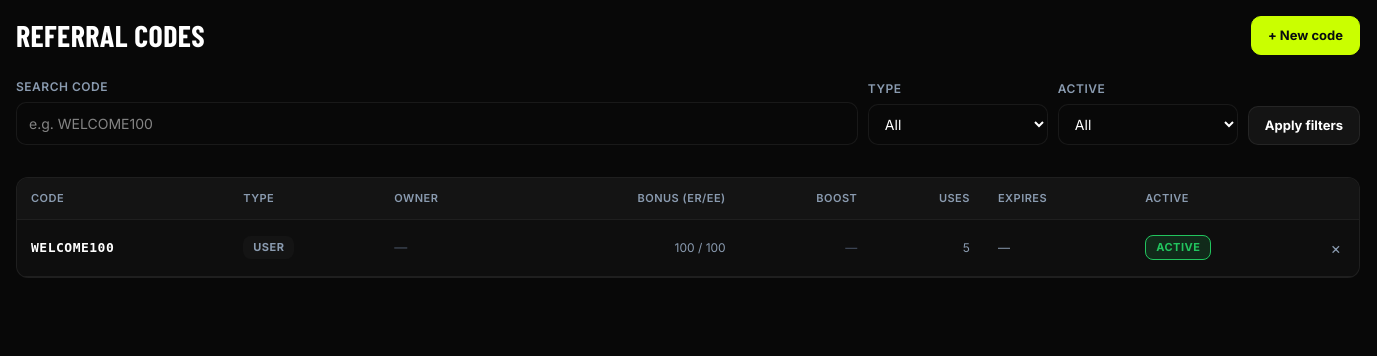
ReferralCodesPage › toggle active error surfaces in page banner
Expected: the text "WELCOME100" is shown, top-left (31, 240), bottom-right (114, 255)
Click the button "Active".
click(1178, 248)  # box top-left (1145, 235), bottom-right (1211, 260)
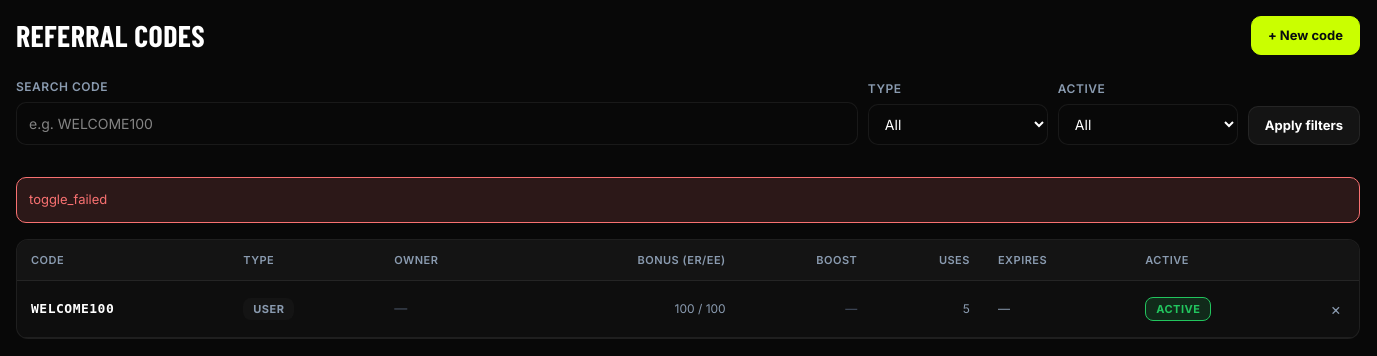
Expected: the text "toggle_failed" is shown, top-left (16, 177), bottom-right (1360, 222)
